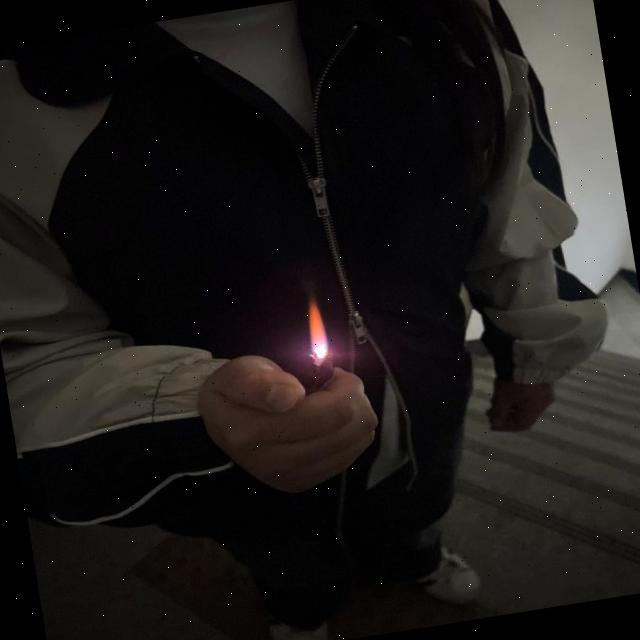fire: (301, 292, 332, 362)
